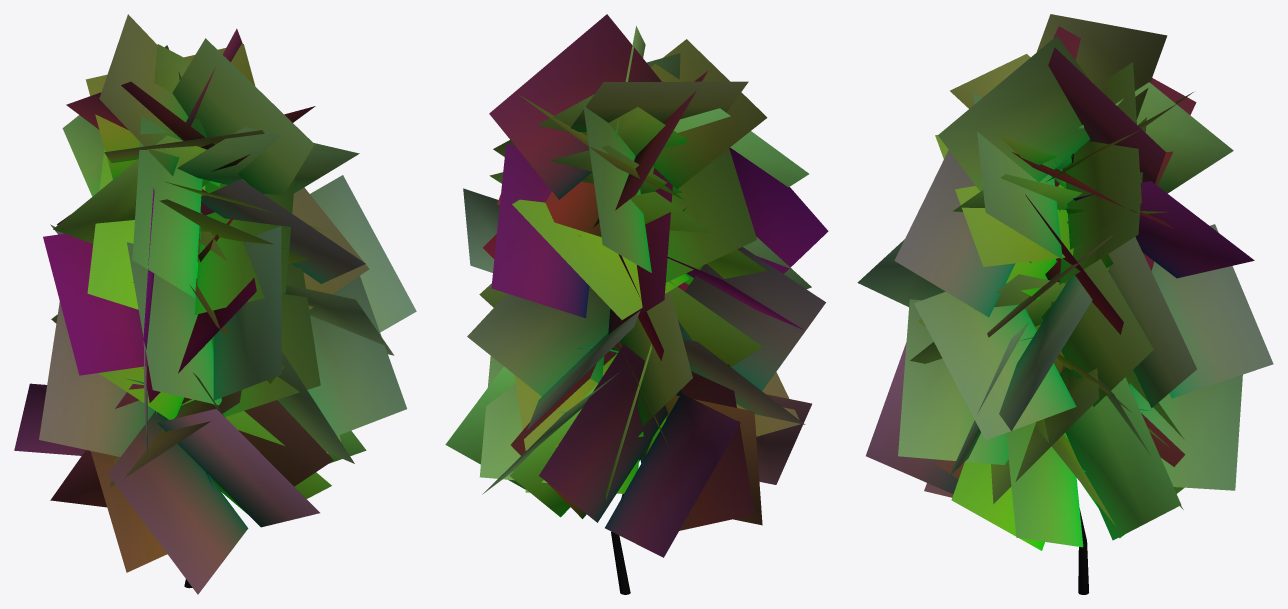
The model's file is URP_P15_Tree_10_LOD_2.fbx.
3 views of the same model, side by side, from view 1: azimuth 30°, elevation 25°; view 2: azimuth 150°, elevation 25°; view 3: azimuth 270°, elevation 25° (orthographic).
Visible parts, largest first — view 1: Tree_10_LOD_2; view 2: Tree_10_LOD_2; view 3: Tree_10_LOD_2.
Boxes of the visible parts, x1=… form: Tree_10_LOD_2: x1=14, y1=14, x2=416, y2=594; Tree_10_LOD_2: x1=445, y1=14, x2=828, y2=594; Tree_10_LOD_2: x1=857, y1=14, x2=1273, y2=594.
Bounding box in the file's own units: 500 × 751 × 504.
